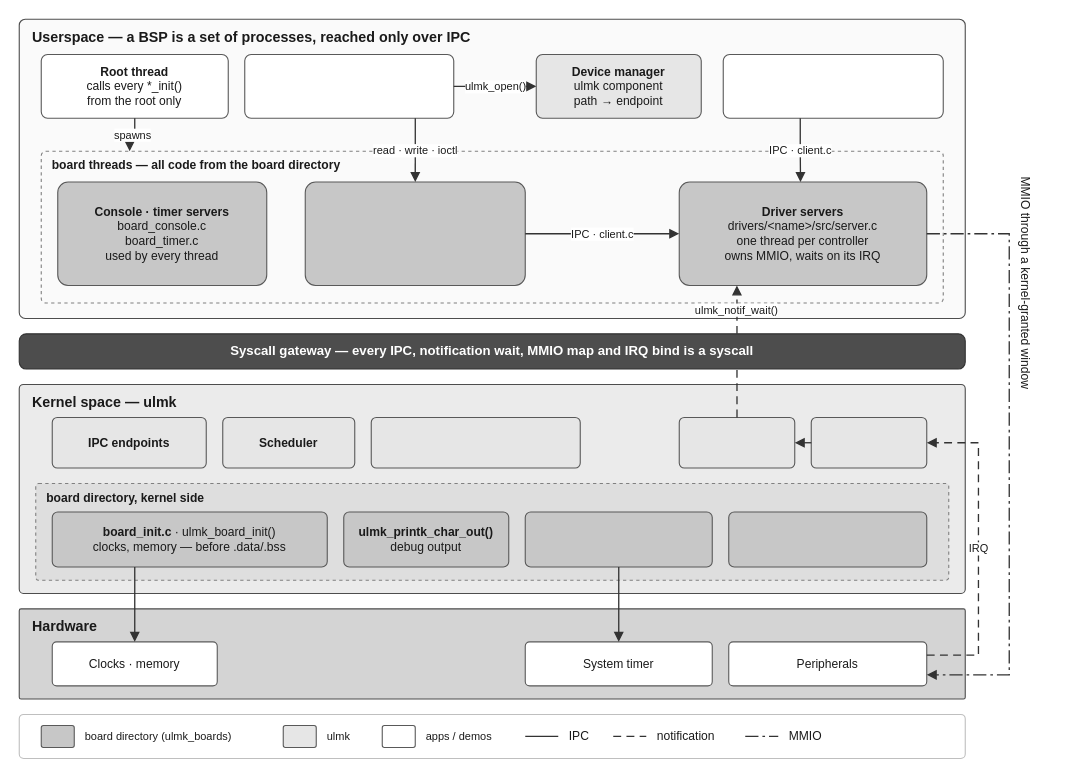
The diagram is 1081 pixels wide and 778 high, and some of its shapes have lost their labels. The shapes that lost their labels are listed below. From the top down, each one's centre as x and y in pixels, then its label:
(349,85): Portable apps · ulmk_apps ulmk_open("/dev/…") and class helpers only
(832,85): Board demos · components/ board_blinky, board_can_loopback … legacy driver API
(414,233): DM adapters drivers/<name>_dm/ ulmk_dev_serve() registered by board_devices.c
(475,442): Memory areas MMIO windows · CAP_MAP_PERIPH
(736,442): Notifications
(868,442): IRQ bindings
(618,539): tick · IPI ulmk_board_tick_* · ipi_*
(827,539): IRQ routing · caches optional, config-gated
